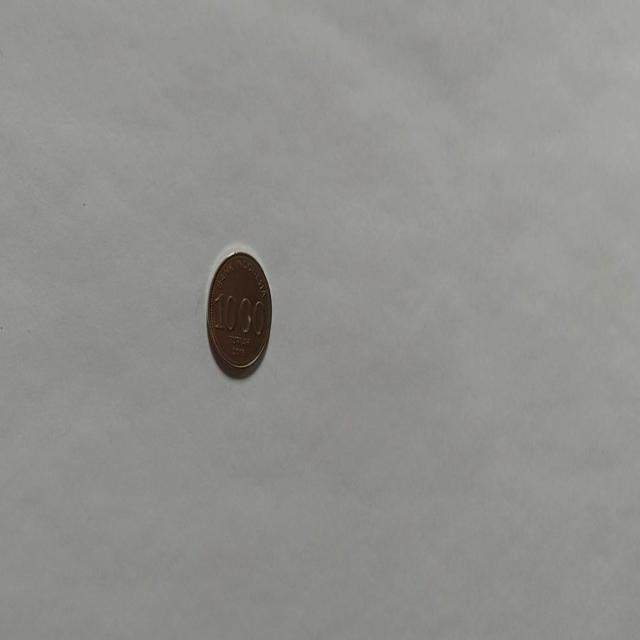seribu rupiah koin: (205, 247, 273, 379)
